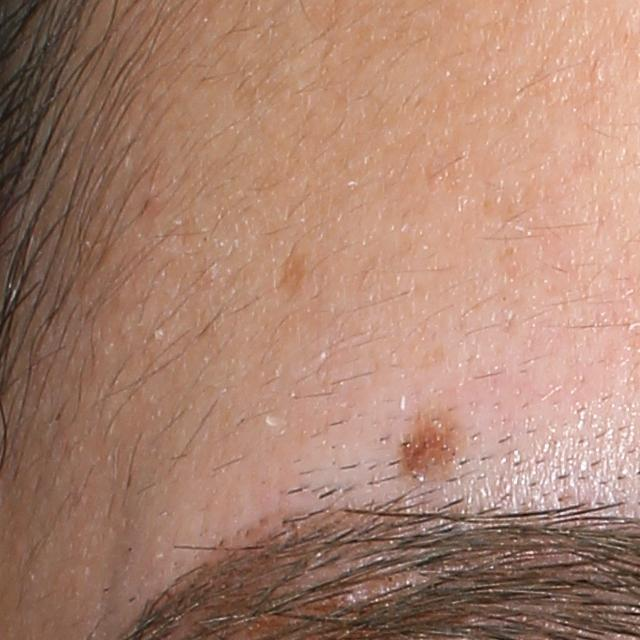comedo: (590, 66, 605, 82)
nevus: (392, 413, 466, 479)
